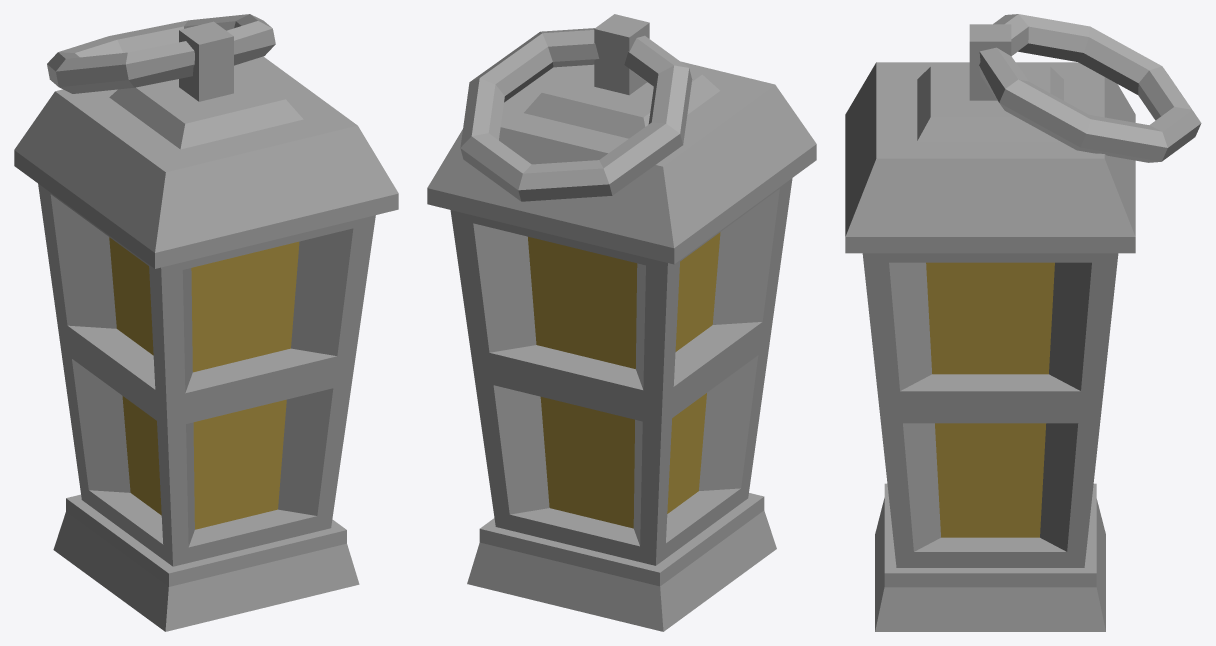
Rendered from Lantern.fbx.
3 views of the same model, side by side, from view 1: azimuth 30°, elevation 25°; view 2: azimuth 150°, elevation 25°; view 3: azimuth 270°, elevation 25° (orthographic). The views are drawn at different scales.
Visible parts, largest first — view 1: pCube3; view 2: pCube3; view 3: pCube3.
Part boxes in pixels (box(x1,y1,x2,y2)): pCube3: box(14, 14, 398, 631); pCube3: box(427, 14, 816, 631); pCube3: box(845, 14, 1201, 631).
Bounding box in the file's own units: 1.51 × 3.17 × 1.86.
